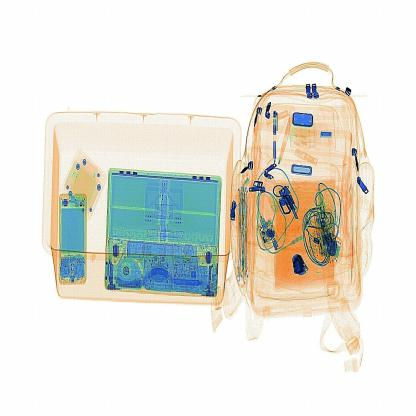scissors: (290, 249, 310, 284)
